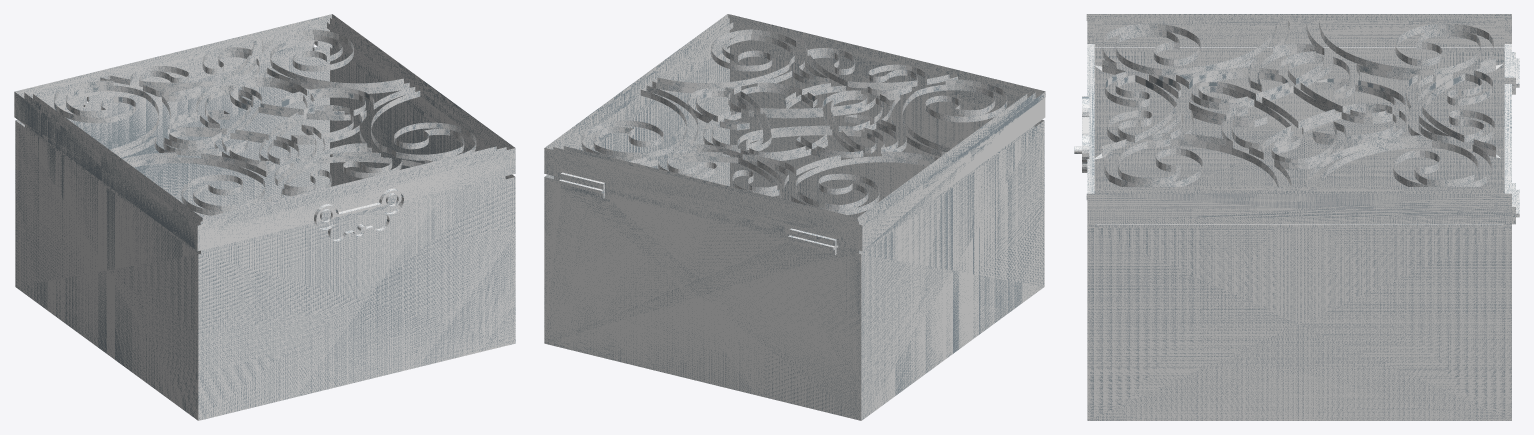
Rendered from electronicsbox.dae.
3 renders of one model, left to right at view 1: azimuth 30°, elevation 25°; view 2: azimuth 150°, elevation 25°; view 3: azimuth 270°, elevation 25°, orthographic. The views are drawn at different scales.
Parts seen in each view (by area): view 1: group_0 (×2), group_2 (×12), group_1; view 2: group_0 (×2), group_2 (×8); view 3: group_0 (×2), group_2 (×14), group_1.
Boxes of the visible parts, box(x1,y1,x2,y2) form: group_0 (×2): box(14, 14, 515, 420); group_2 (×12): box(14, 14, 514, 231); group_1: box(314, 188, 403, 241); group_0 (×2): box(544, 14, 1045, 420); group_2 (×8): box(545, 14, 1045, 225); group_0 (×2): box(1087, 14, 1519, 420); group_2 (×14): box(1086, 14, 1511, 199); group_1: box(1082, 96, 1089, 172).
Size of the model in its own units: 4.42 by 4.62 by 2.6.
